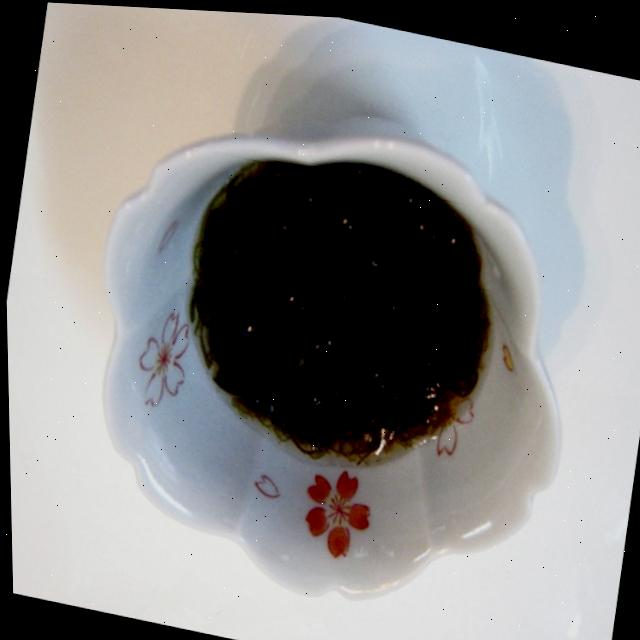蔬菜料理: (10, 35, 627, 636)
